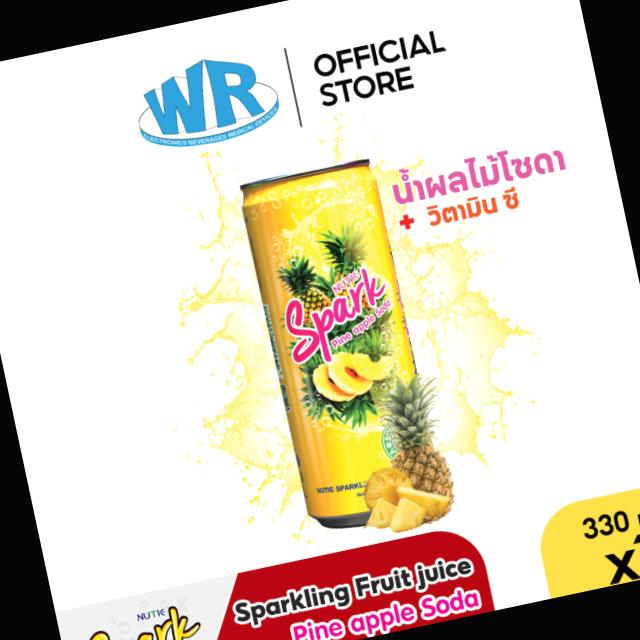can: (233, 149, 451, 541)
